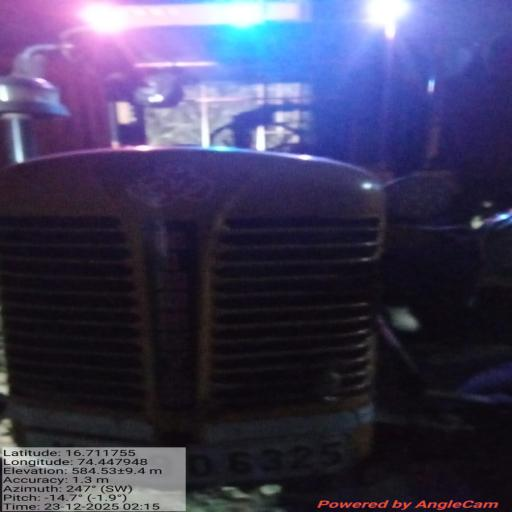number_plate: (44, 427, 354, 488)
